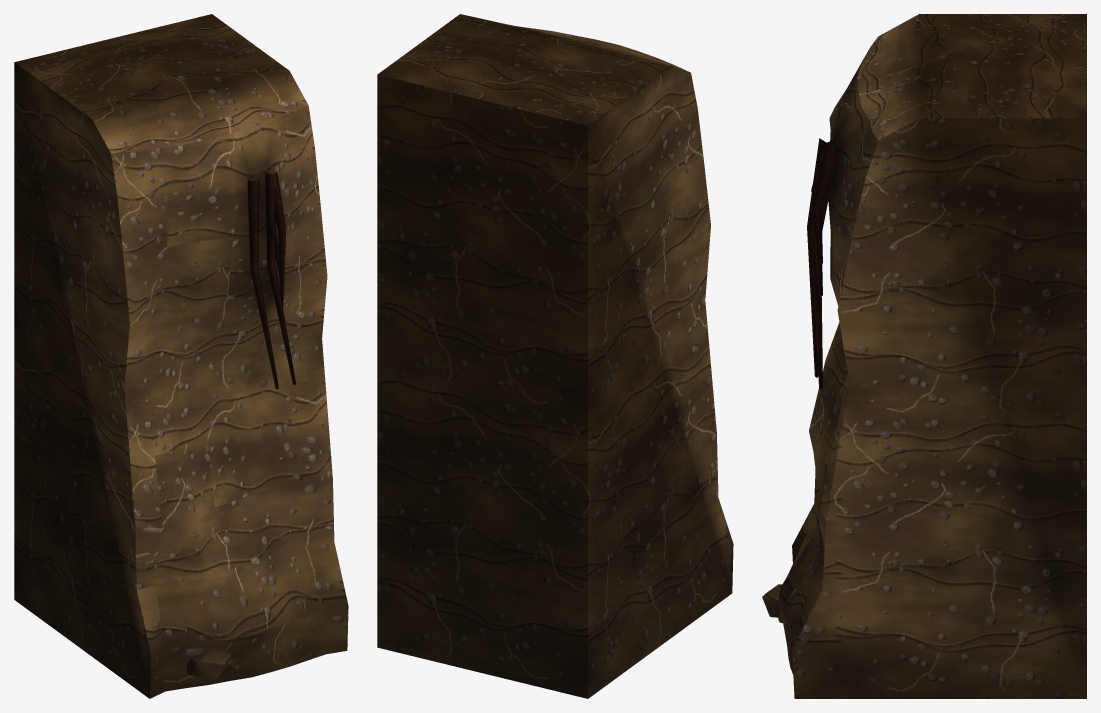
The model's file is cave_wall_mud.glb.
The picture shows the model from 3 angles, left to right: view 1: azimuth 30°, elevation 25°; view 2: azimuth 150°, elevation 25°; view 3: azimuth 270°, elevation 25°; orthographic projection. The views are drawn at different scales.
Parts seen in each view (by area): view 1: cave_wall_mud; view 2: cave_wall_mud; view 3: cave_wall_mud.
Boxes of the visible parts, x1,y1,x2,y2 form: cave_wall_mud: [14, 14, 348, 698]; cave_wall_mud: [377, 14, 733, 698]; cave_wall_mud: [762, 14, 1086, 698].
Bounding box in the file's own units: 1 × 2.66 × 1.32.
Materials: 2 (2 with a texture image).
